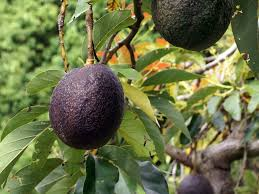fit_avocado: (38, 63, 131, 150)
